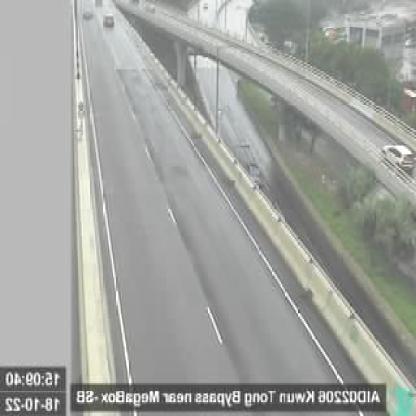Car: (379, 142, 415, 172), (103, 14, 114, 30)
